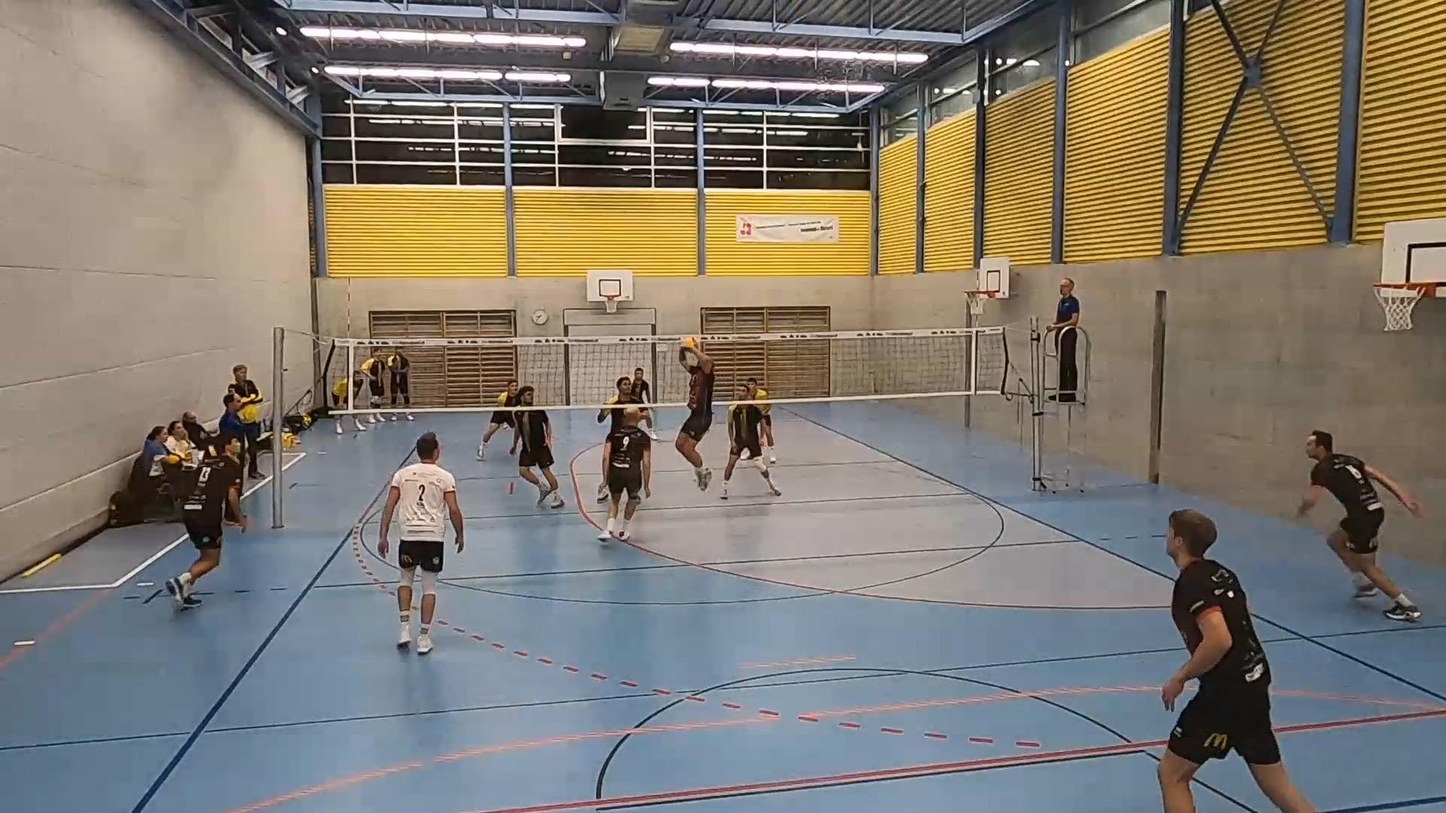alzata: (671, 343, 722, 490)
